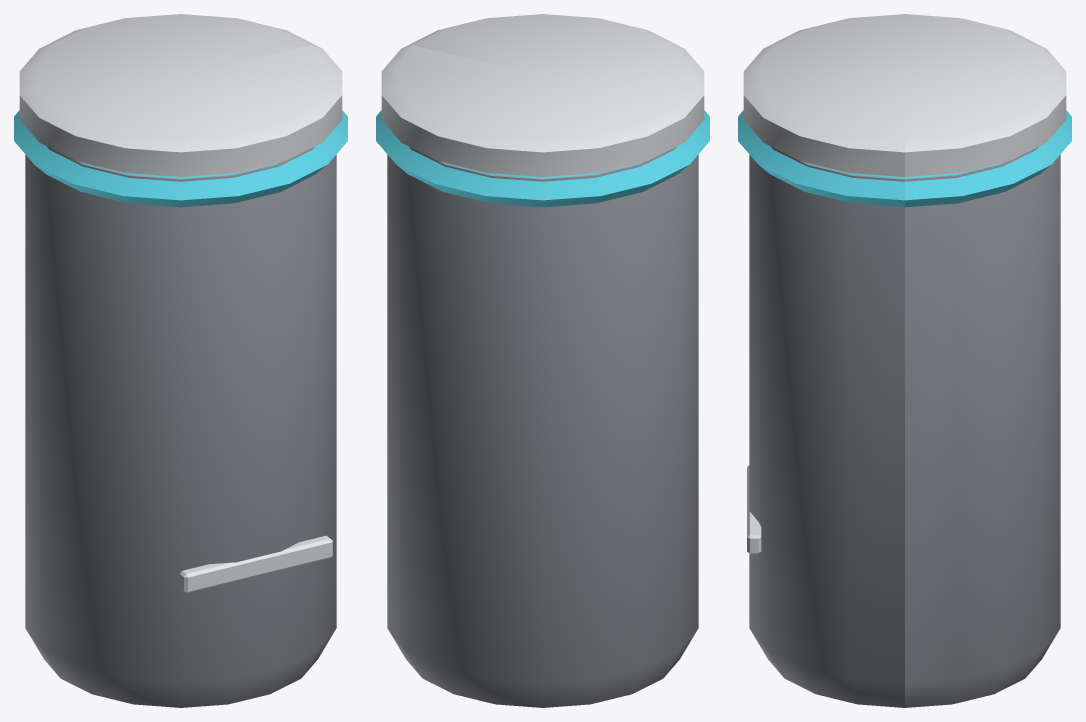
File: laser-tag-arena-and-activity-centre-waste-bin-9b190b25__34509.glb
3 views of the same model, side by side, from view 1: azimuth 30°, elevation 25°; view 2: azimuth 150°, elevation 25°; view 3: azimuth 270°, elevation 25° (orthographic).
Visible parts, largest first — view 1: waste-bin; view 2: waste-bin; view 3: waste-bin.
Boxes of the visible parts, x1=… form: waste-bin: x1=14, y1=14, x2=347, y2=707; waste-bin: x1=376, y1=14, x2=709, y2=707; waste-bin: x1=738, y1=14, x2=1071, y2=707.
Bounding box in the file's own units: 0.472 × 0.88 × 0.4649.
